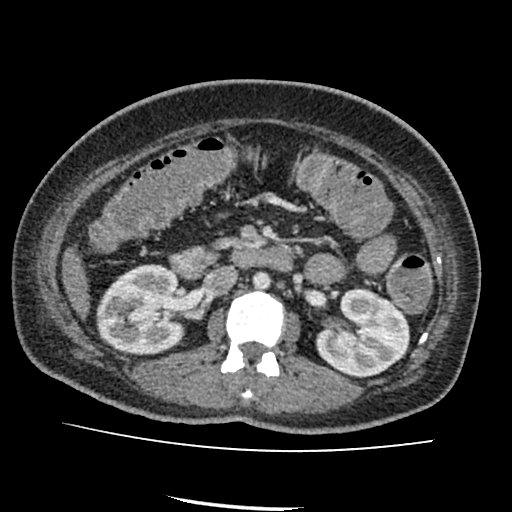aorta: (253, 270, 271, 290)
